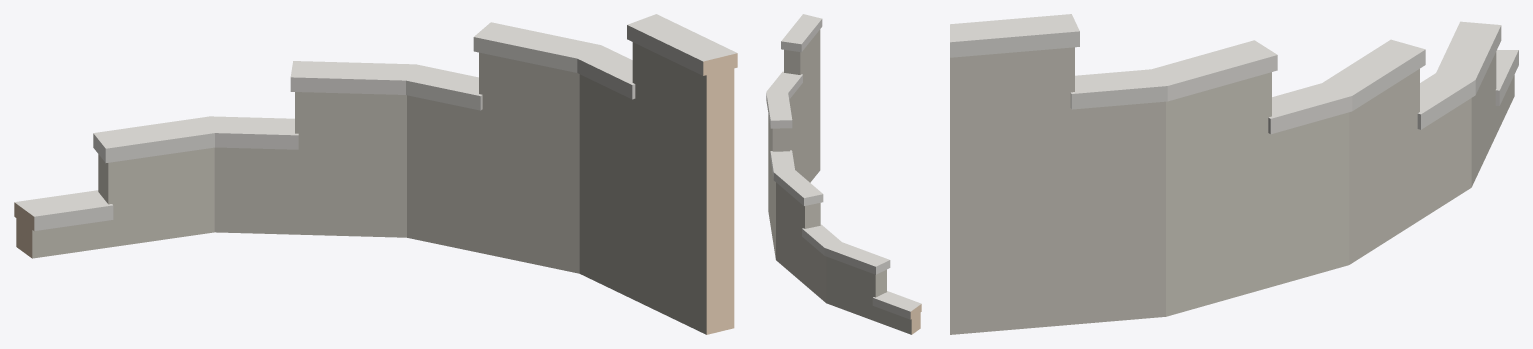
Rendered from Tiered_Retaining_Wall_Stepped_Curve_Tall_4x4.glb.
The picture shows the model from 3 angles, left to right: view 1: azimuth 30°, elevation 25°; view 2: azimuth 150°, elevation 25°; view 3: azimuth 270°, elevation 25°; orthographic projection. The views are drawn at different scales.
Visible parts, largest first — view 1: Tiered_Retaining_Wall_Stepped_Curve_Tall_4x4; view 2: Tiered_Retaining_Wall_Stepped_Curve_Tall_4x4; view 3: Tiered_Retaining_Wall_Stepped_Curve_Tall_4x4.
Boxes of the visible parts, box(x1,y1,x2,y2) form: Tiered_Retaining_Wall_Stepped_Curve_Tall_4x4: box(14, 14, 737, 334); Tiered_Retaining_Wall_Stepped_Curve_Tall_4x4: box(766, 14, 921, 334); Tiered_Retaining_Wall_Stepped_Curve_Tall_4x4: box(950, 14, 1518, 334).
Bounding box in the file's own units: 416 × 238 × 416.
